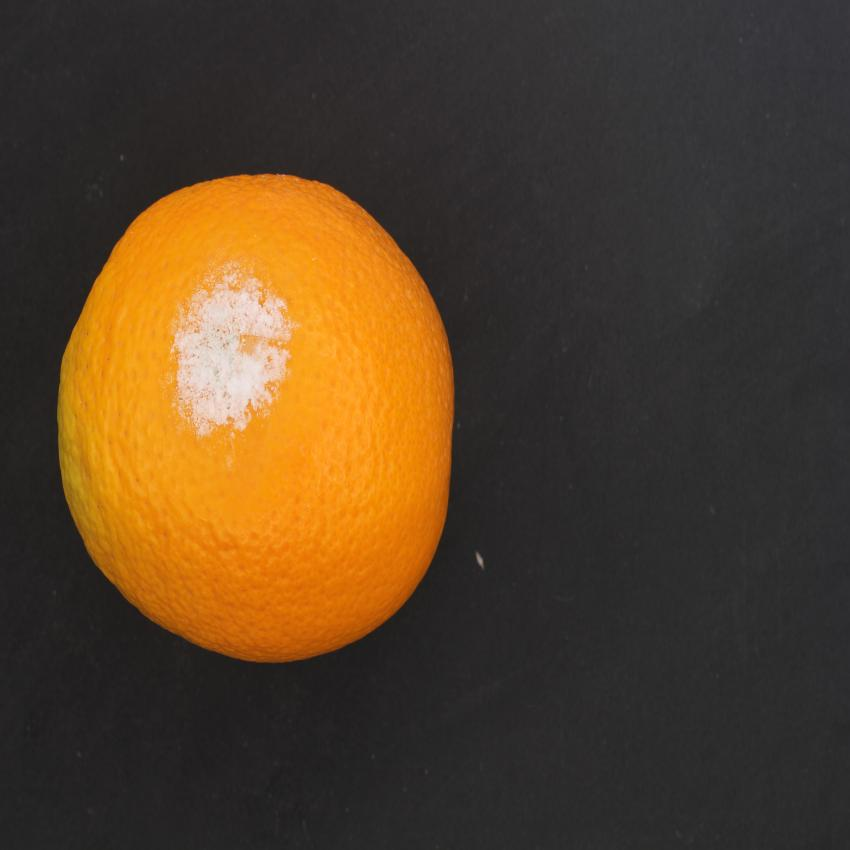Mal estado: (48, 153, 466, 680)
